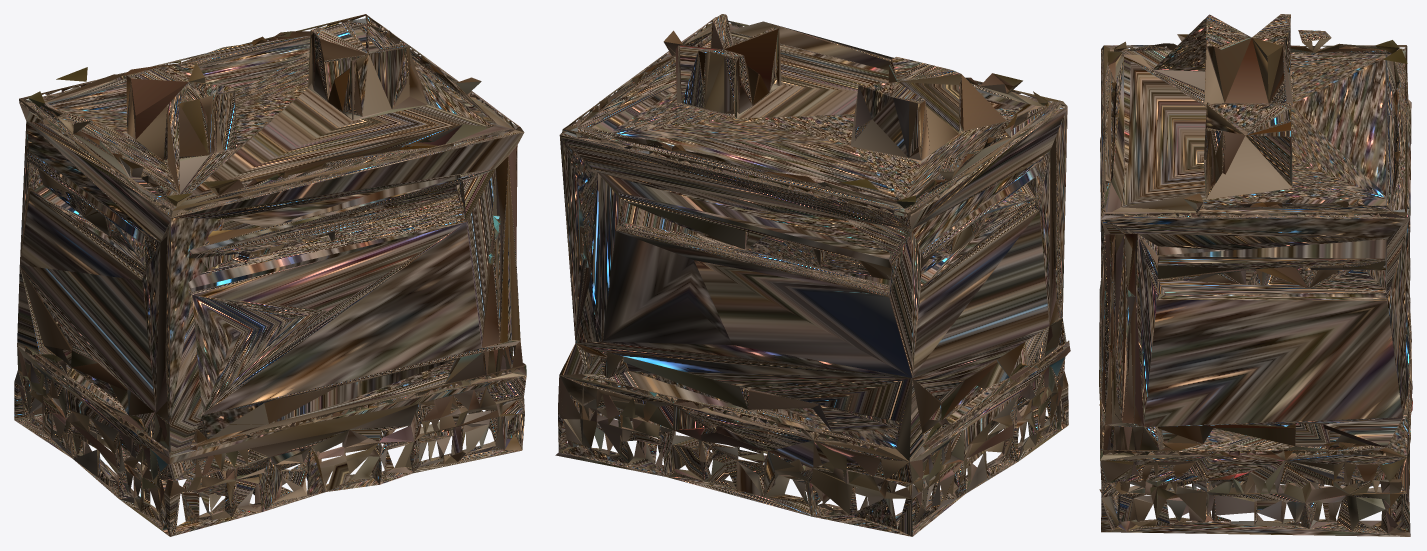
Rendered from r03_far.glb.
3 views of the same model, side by side, from view 1: azimuth 30°, elevation 25°; view 2: azimuth 150°, elevation 25°; view 3: azimuth 270°, elevation 25° (orthographic).
Parts seen in each view (by area): view 1: r03_far; view 2: r03_far; view 3: r03_far.
Part boxes in pixels (x1,y1,x2,y2): r03_far: [14, 14, 526, 536]; r03_far: [555, 14, 1070, 536]; r03_far: [1099, 14, 1412, 536].
Bounding box in the file's own units: 98.84 × 100 × 75.51.
1 material, 1 textured.
